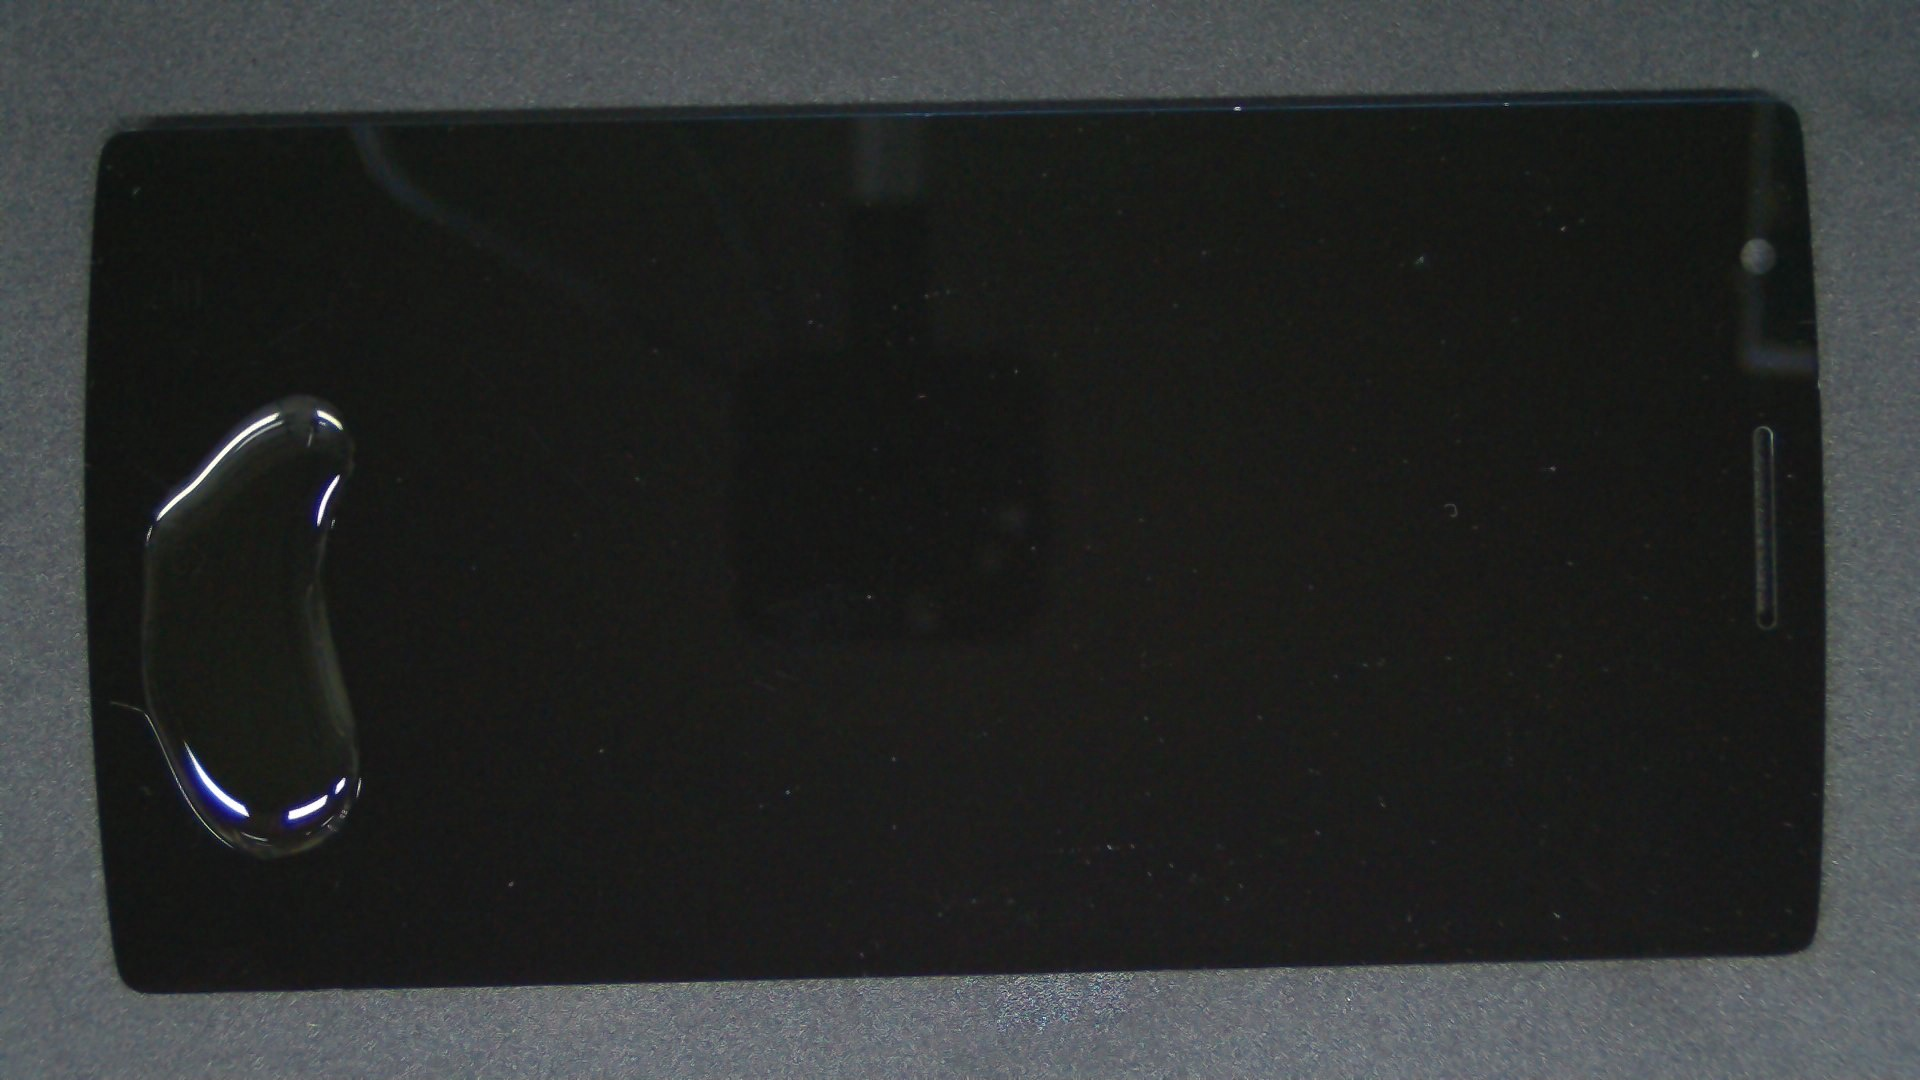oil: (150, 196, 448, 589)
